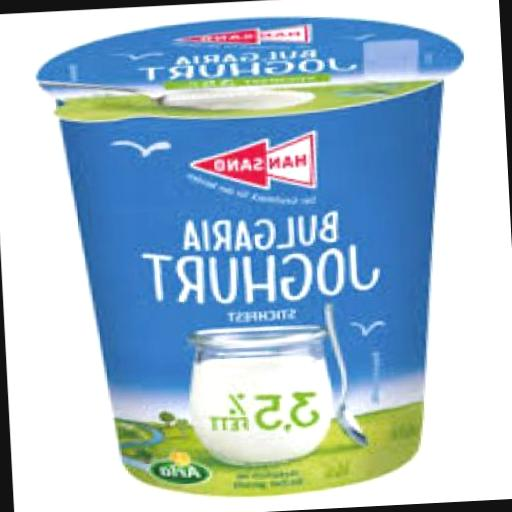plastic: (38, 4, 490, 501)
